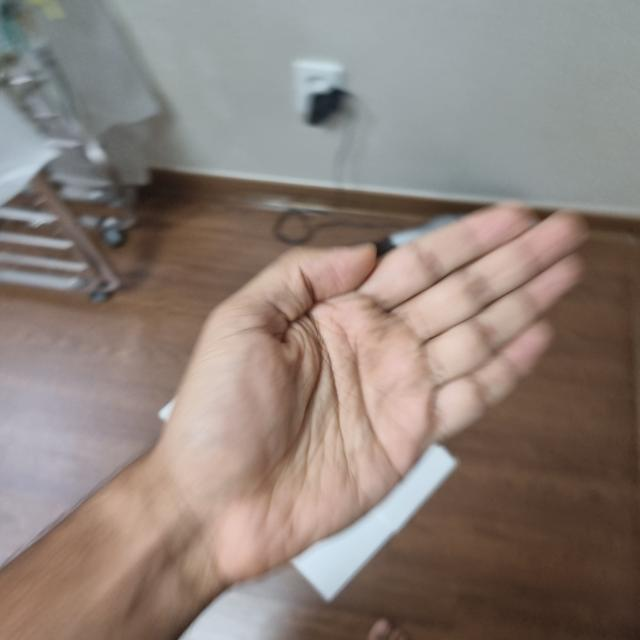Paper: (158, 204, 587, 578)
